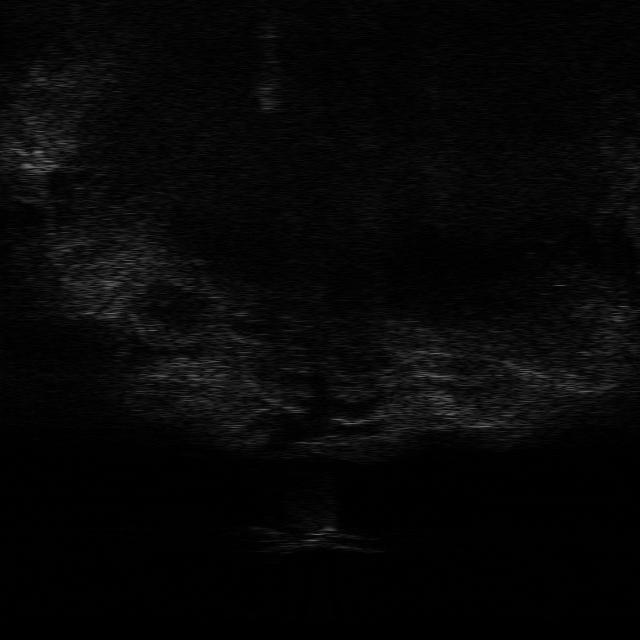plane: (248, 522, 384, 554)
